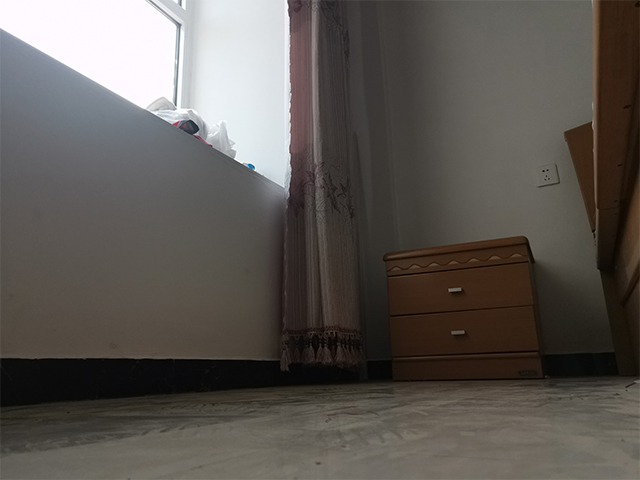bed: (560, 1, 640, 378)
cabinet: (380, 234, 547, 384)
curtain: (277, 1, 369, 375)
